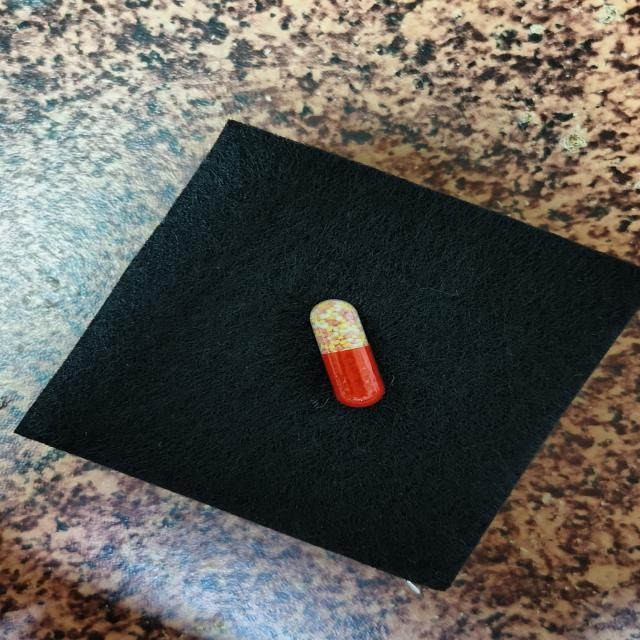Intact Capsule: (310, 299, 385, 407)
